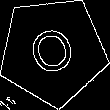O_SE: (24, 19, 82, 83)
